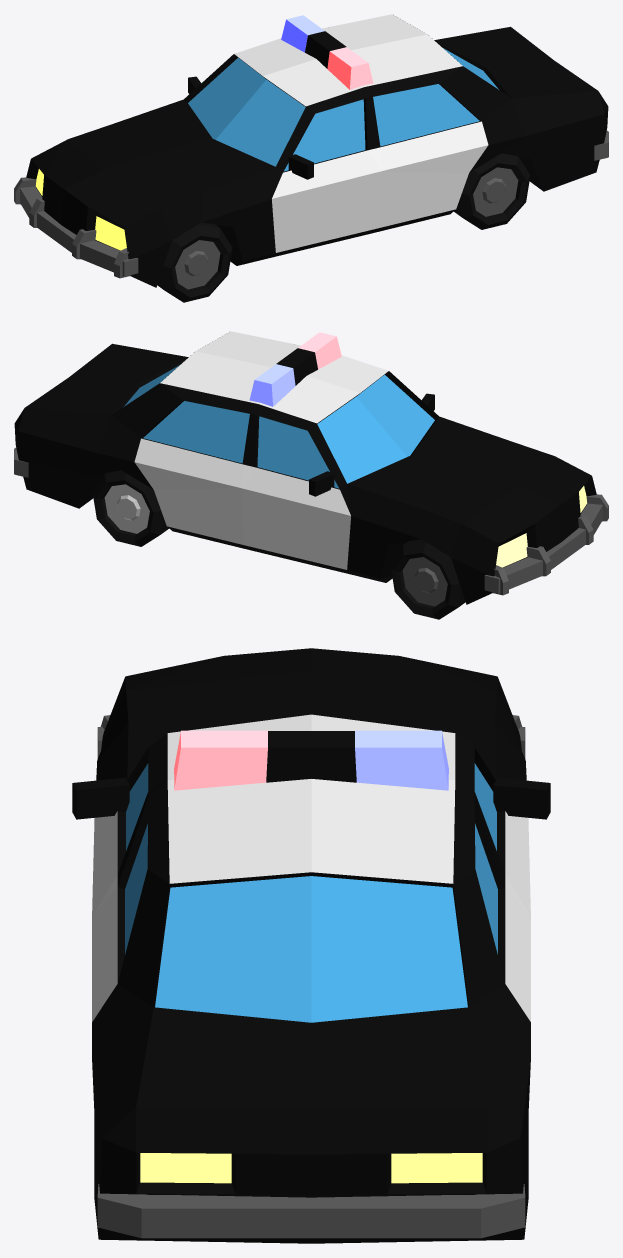
File: PoliceCar.fbx
The picture shows the model from 3 angles, top to bottom: view 1: azimuth 30°, elevation 25°; view 2: azimuth 150°, elevation 25°; view 3: azimuth 270°, elevation 25°; orthographic projection. The views are drawn at different scales.
Parts seen in each view (by area): view 1: Policecar, Object001, Object002, Object004, Object008, Object009, WheelP-4, WheelP-3, Object006, Object005, Object003; view 2: Policecar, Object001, Object002, Object004, Object007, Object010, WheelP-1, WheelP-2, Object005, Object006, Object003; view 3: Policecar, Object002, Object001, Object004, Object003, Object005, Object006.
Part boxes in pixels (x1,y1,x2,y2): Policecar: [26, 24, 608, 287]; Object001: [234, 14, 488, 252]; Object002: [188, 48, 498, 171]; Object004: [14, 78, 608, 278]; Object008: [157, 222, 232, 302]; Object009: [454, 153, 530, 229]; WheelP-4: [175, 240, 220, 289]; WheelP-3: [473, 167, 518, 216]; Object006: [327, 47, 373, 89]; Object005: [281, 15, 324, 52]; Object003: [35, 169, 126, 250]; Policecar: [14, 341, 596, 604]; Object001: [134, 331, 388, 569]; Object002: [124, 365, 434, 488]; Object004: [14, 395, 608, 595]; Object007: [390, 539, 465, 619]; Object010: [92, 470, 168, 546]; WheelP-1: [402, 557, 447, 606]; WheelP-2: [104, 484, 149, 533]; Object005: [249, 364, 295, 406]; Object006: [298, 332, 341, 369]; Object003: [496, 486, 587, 567]; Policecar: [72, 648, 550, 1243]; Object002: [125, 763, 497, 1022]; Object001: [92, 714, 530, 1021]; Object004: [97, 715, 525, 1238]; Object003: [140, 1153, 482, 1183]; Object005: [355, 730, 448, 790]; Object006: [174, 730, 267, 790].
Bounding box in the file's own units: 190 × 63.73 × 76.74.
